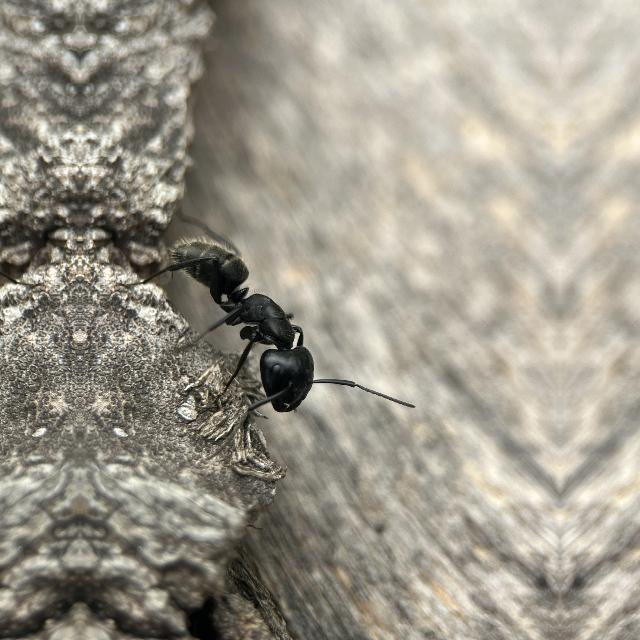Camponotus: (153, 200, 363, 426)
